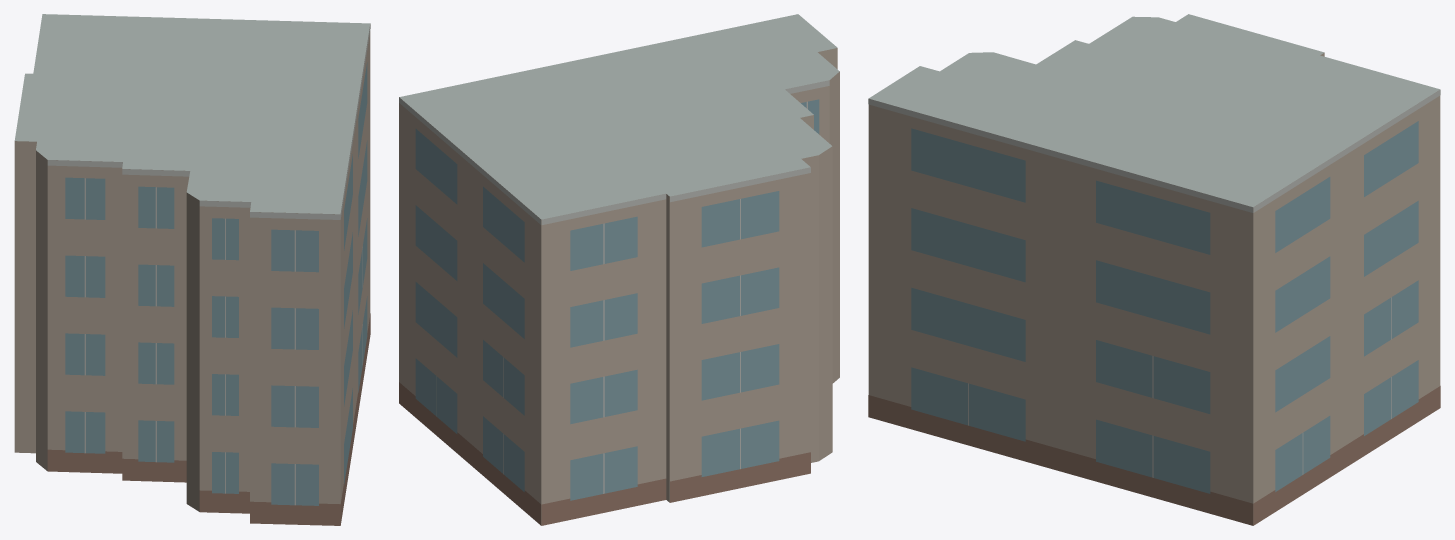
The model's file is survey-upis-32916344.glb.
3 renders of one model, left to right at view 1: azimuth 30°, elevation 25°; view 2: azimuth 150°, elevation 25°; view 3: azimuth 270°, elevation 25°, orthographic. The views are drawn at different scales.
Visible parts, largest first — view 1: survey-upis-32916344.tmp; view 2: survey-upis-32916344.tmp; view 3: survey-upis-32916344.tmp.
Boxes of the visible parts, x1=… form: survey-upis-32916344.tmp: x1=14, y1=14, x2=370, y2=525; survey-upis-32916344.tmp: x1=399, y1=14, x2=839, y2=525; survey-upis-32916344.tmp: x1=868, y1=14, x2=1440, y2=525.
Size of the model in its own units: 17.18 by 13.2 by 21.49.
